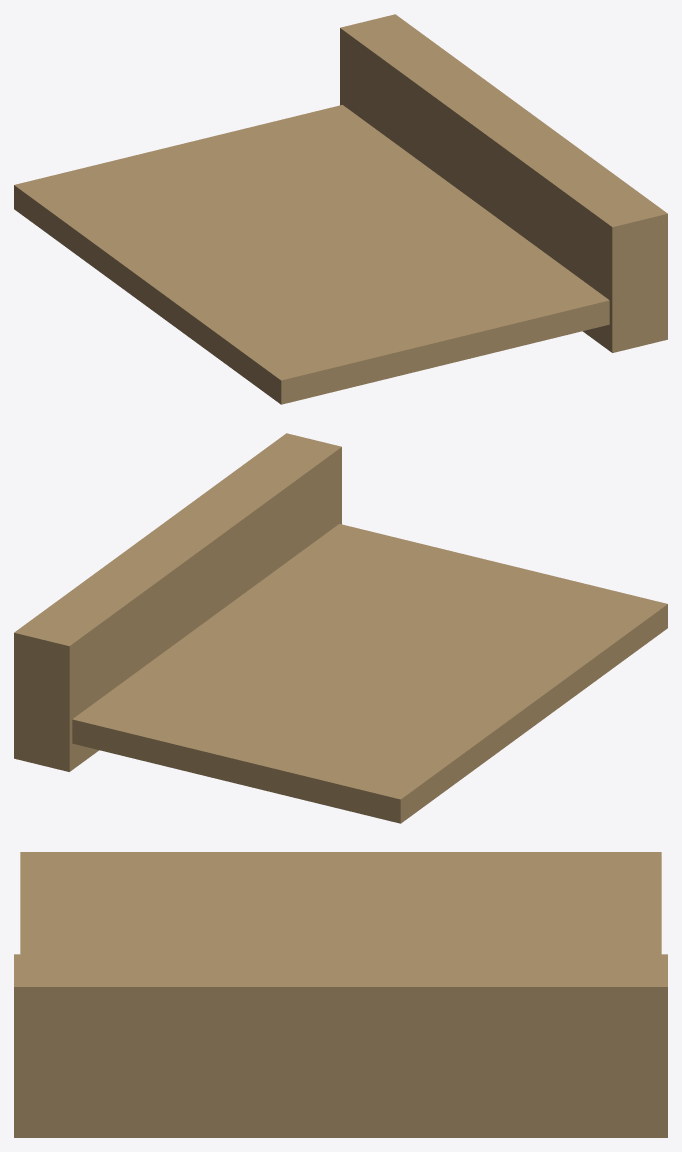
The model's file is road_coast.glb.
3 views of the same model, one above another, from view 1: azimuth 30°, elevation 25°; view 2: azimuth 150°, elevation 25°; view 3: azimuth 270°, elevation 25° (orthographic). The views are drawn at different scales.
Visible parts, largest first — view 1: road_coast; view 2: road_coast; view 3: road_coast.
Boxes of the visible parts, left/top/right/bottom form: road_coast: left=14, top=14, right=667, bottom=404; road_coast: left=14, top=433, right=667, bottom=823; road_coast: left=14, top=852, right=667, bottom=1137.
Bounding box in the file's own units: 0.83 × 0.26 × 1.02.
